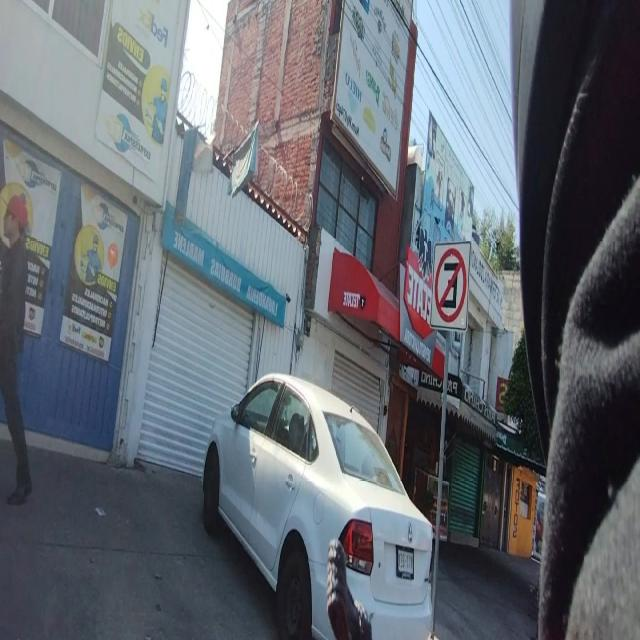adult: (0, 192, 33, 500)
